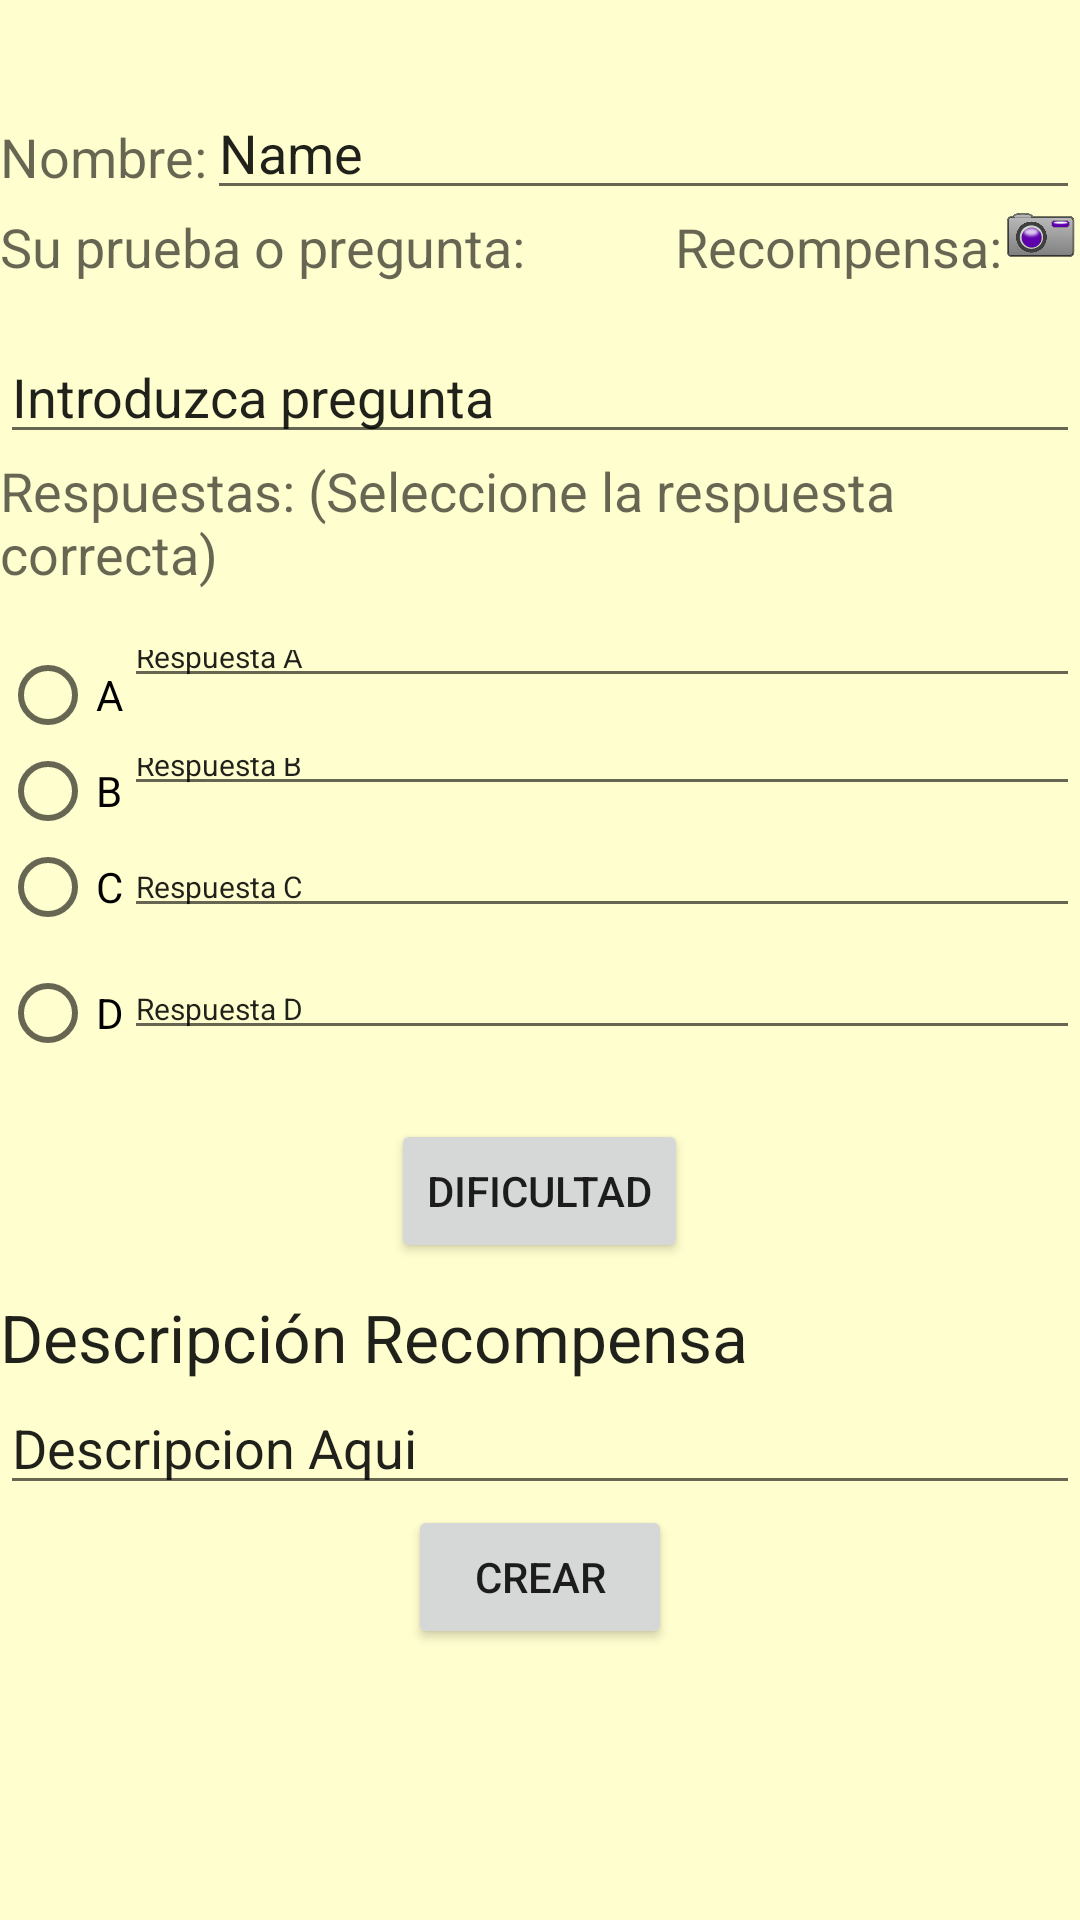

Icons on this 1080x1920 Android screen, each with its box as bbox(x1, y1, x2, y2):
camara: bbox(1007, 213, 1075, 257)
